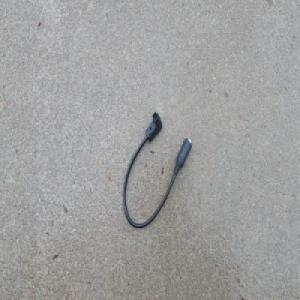Wire: (122, 109, 192, 229)
